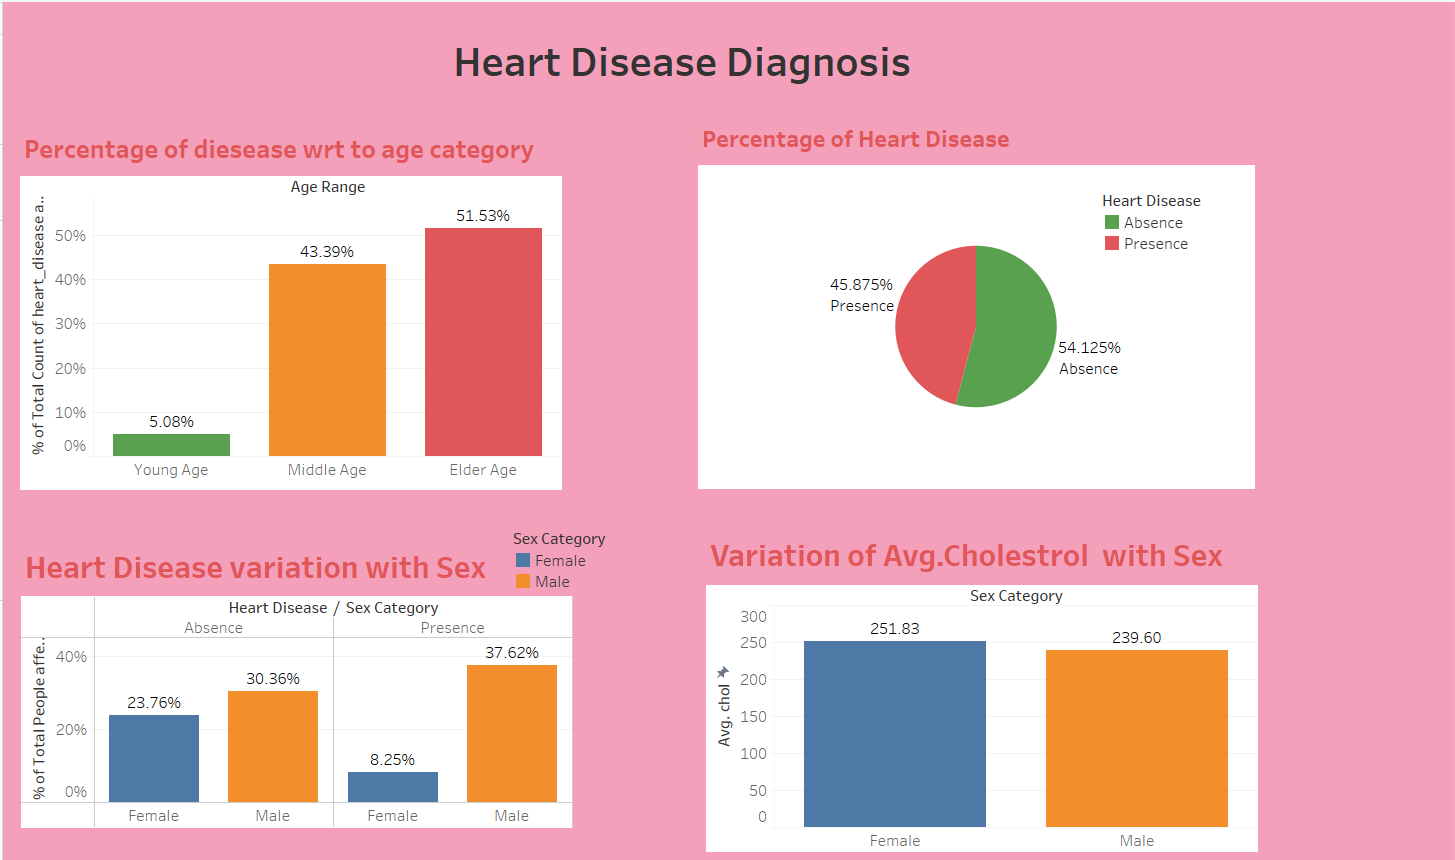

This screenshot's page, from the dashboard's own definition file:
{"tool":"tableau","page":{"name":"Dashboard 2","canvas":[1000,1000],"units":"permille","ordinal":1},"visuals":[{"type":"worksheet","title":"Sheet 5","mark":"Automatic","box":[243.2,30.2,333.1,89.4]},{"type":"worksheet","title":"Sheet 2","mark":"Pie","box":[419.4,134.7,439.9,457.6]},{"type":"worksheet","title":"Sheet 1","mark":"Automatic","rows":["heart_disease_dataset_preprocessed.csv_84B233C5B89D4EDF88072"],"cols":["Age_Range"],"box":[10.3,145.2,327.1,421.6]},{"type":"legend","title":"Sheet 2","param":"[federated.1s0y7ty0ets7jv1gdgnxc173moha].[none:Heart_Disease:nk]","box":[663.2,218.3,84.5,74.3]},{"type":"legend","title":"Sheet 3","param":"[federated.1s0y7ty0ets7jv1gdgnxc173moha].[none:sex_category:nk]","box":[307.8,610.9,84.5,74.3]},{"type":"worksheet","title":"Sheet 4","mark":"Automatic","rows":["chol"],"cols":["sex_category"],"box":[424.3,612.1,333.1,375.2]},{"type":"worksheet","title":"Sheet 3","mark":"Automatic","rows":["heart_disease_dataset_preprocessed.csv_84B233C5B89D4EDF88072"],"cols":["Heart_Disease","sex_category"],"box":[10.9,626,333.1,333.3]}]}

Visuals, with their boxes on the dashboard's canvas, which has no fixed pixel size, in thousandths of its width and height (x1, y1, x2, y2). These are canvas units, not pixel positions in the 1455x860 screenshot, which may show the page scaled, cropped or inside an application window:
"Sheet 5" worksheet: locate(243, 30, 576, 120)
"Sheet 2" worksheet (Pie marks): locate(419, 135, 859, 592)
"Sheet 1" worksheet: locate(10, 145, 337, 567)
"Sheet 2" legend: locate(663, 218, 748, 293)
"Sheet 3" legend: locate(308, 611, 392, 685)
"Sheet 4" worksheet: locate(424, 612, 757, 987)
"Sheet 3" worksheet: locate(11, 626, 344, 959)
